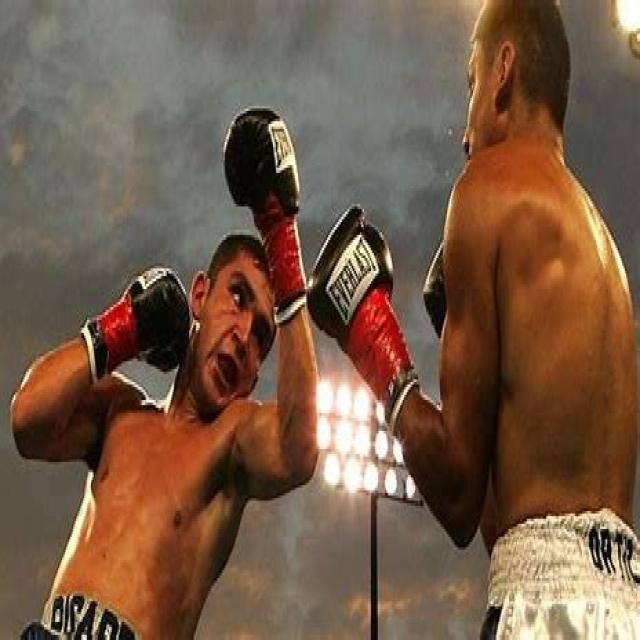fight: (15, 8, 640, 568)
